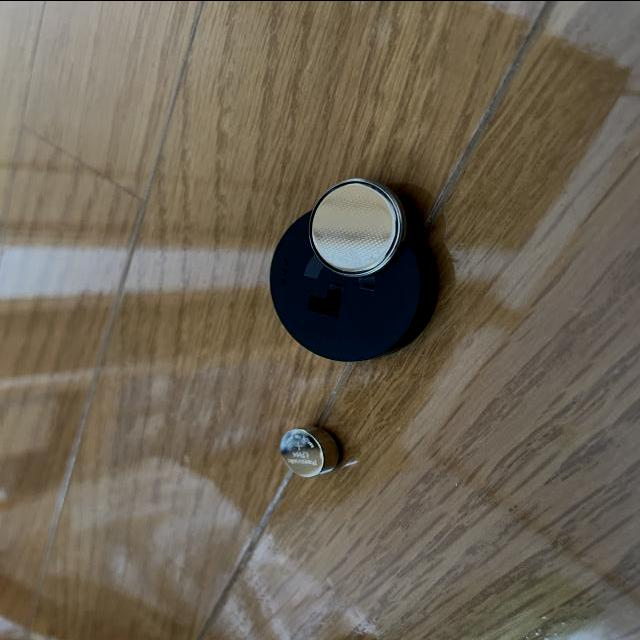COIN: (308, 178, 409, 276), (279, 425, 341, 477)
